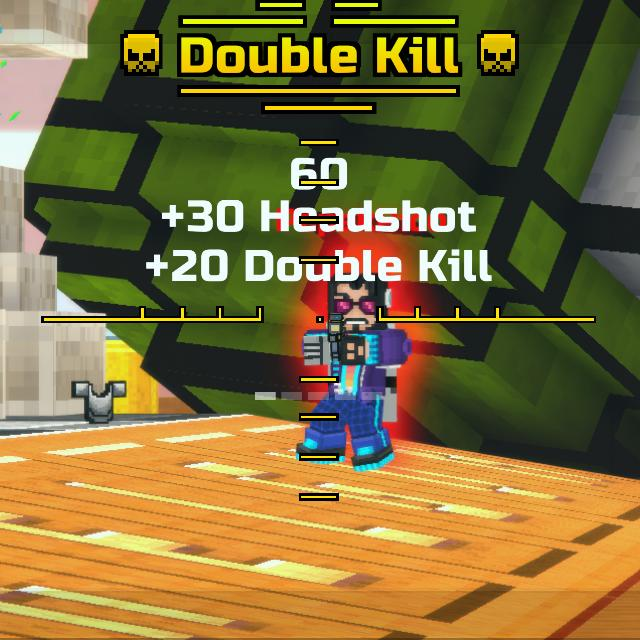Enemy: (296, 273, 412, 472)
